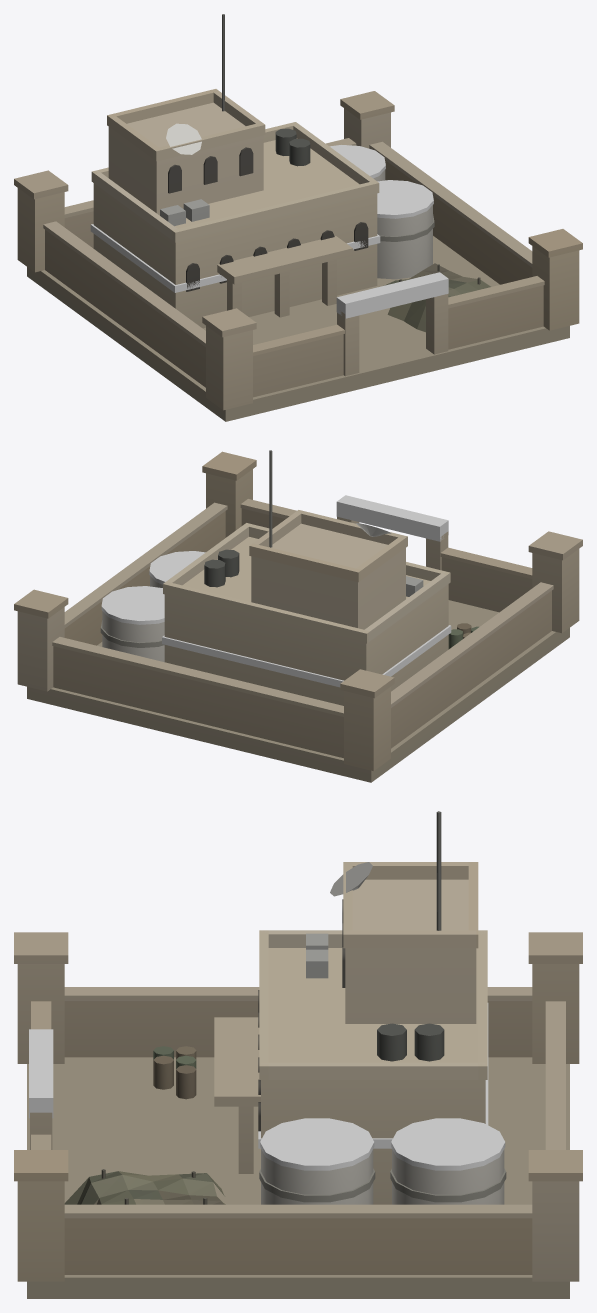
Rendered from m_econ_245f3ead.glb.
The picture shows the model from 3 angles, top to bottom: view 1: azimuth 30°, elevation 25°; view 2: azimuth 150°, elevation 25°; view 3: azimuth 270°, elevation 25°; orthographic projection. The views are drawn at different scales.
Visible parts, largest first — view 1: mesh; view 2: mesh; view 3: mesh.
Boxes of the visible parts, x1=… form: mesh: x1=14, y1=14, x2=582, y2=421; mesh: x1=14, y1=450, x2=582, y2=782; mesh: x1=14, y1=811, x2=582, y2=1298.
Bounding box in the file's own units: 60.8 × 42 × 60.8.
